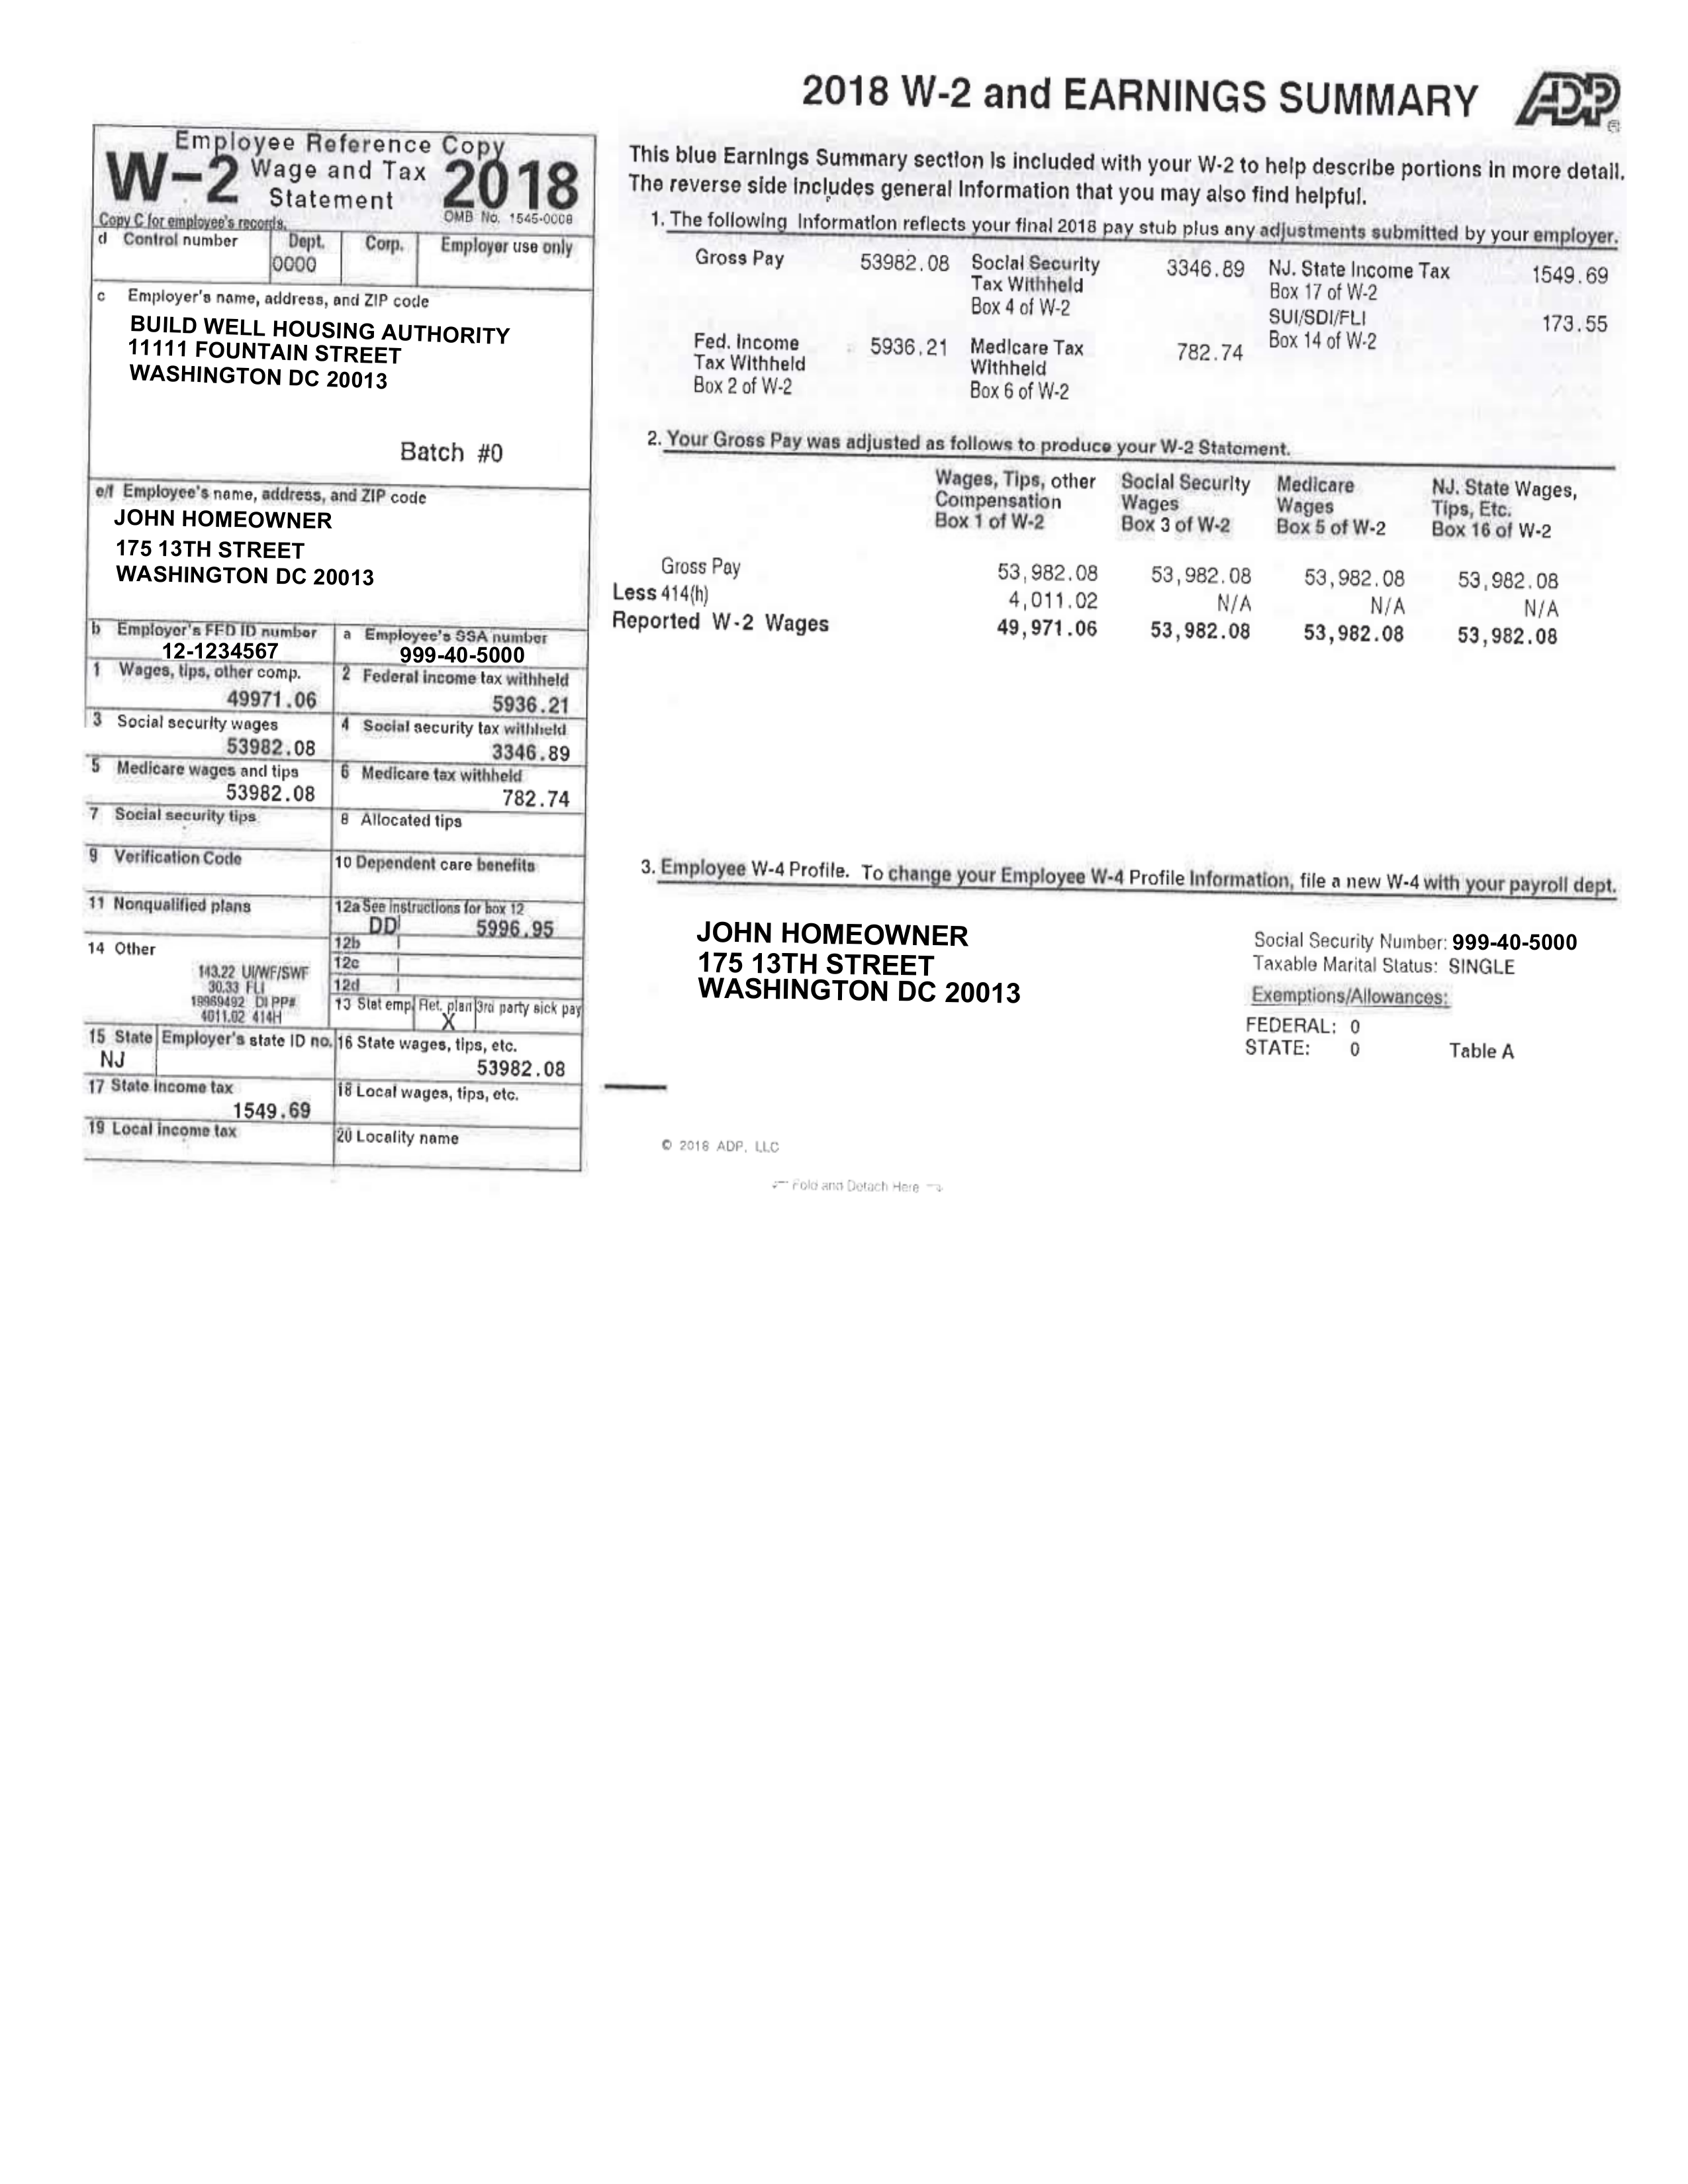table: (83, 124, 592, 1172)
